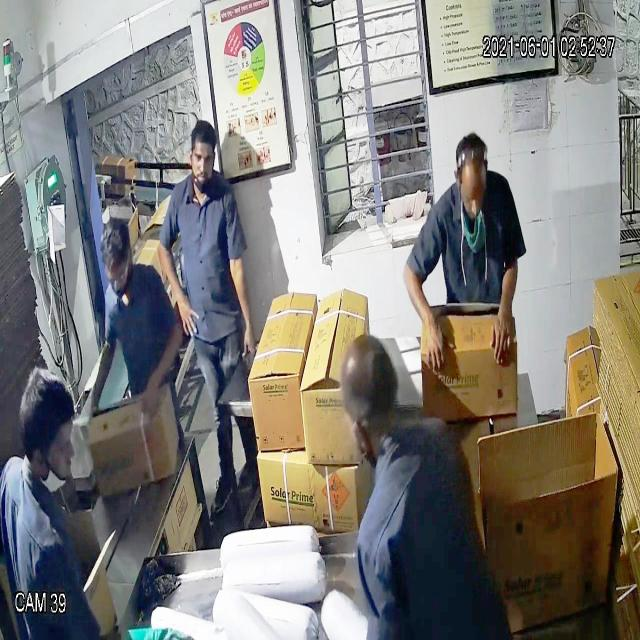glasses: (99, 256, 137, 292)
no-glass: (182, 143, 218, 174)
